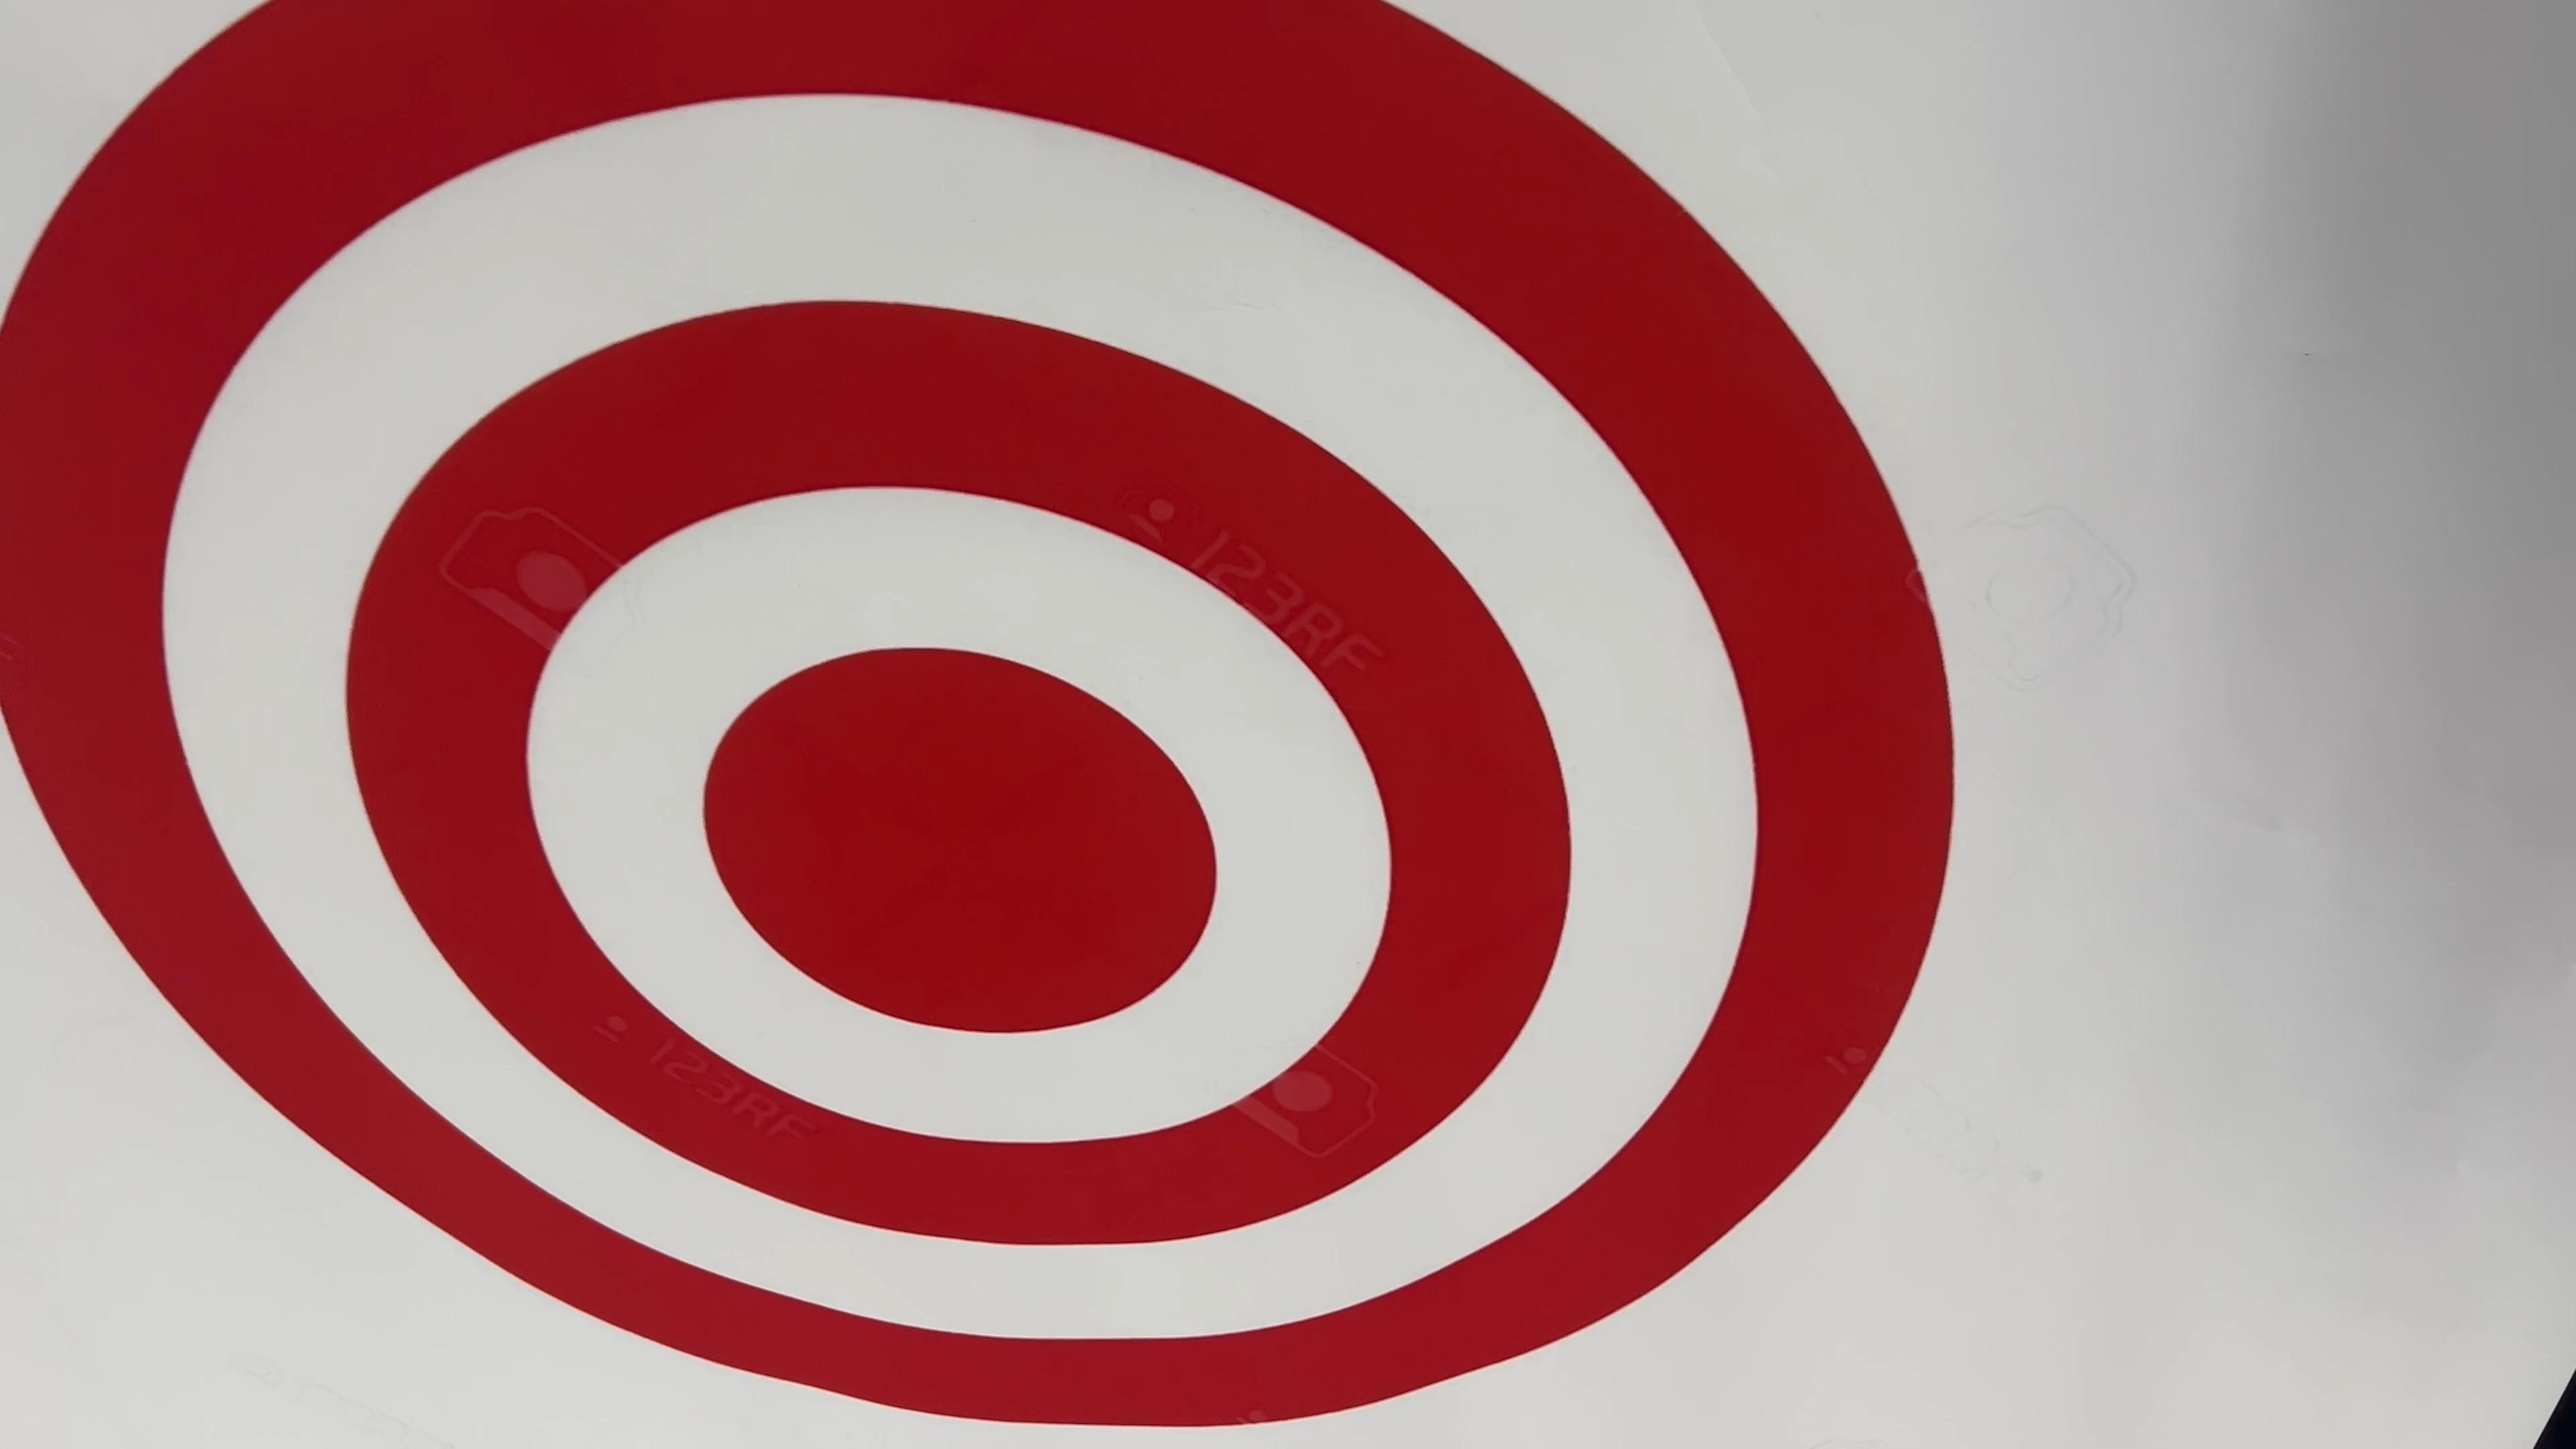target_red: (0, 0, 1957, 1449)
